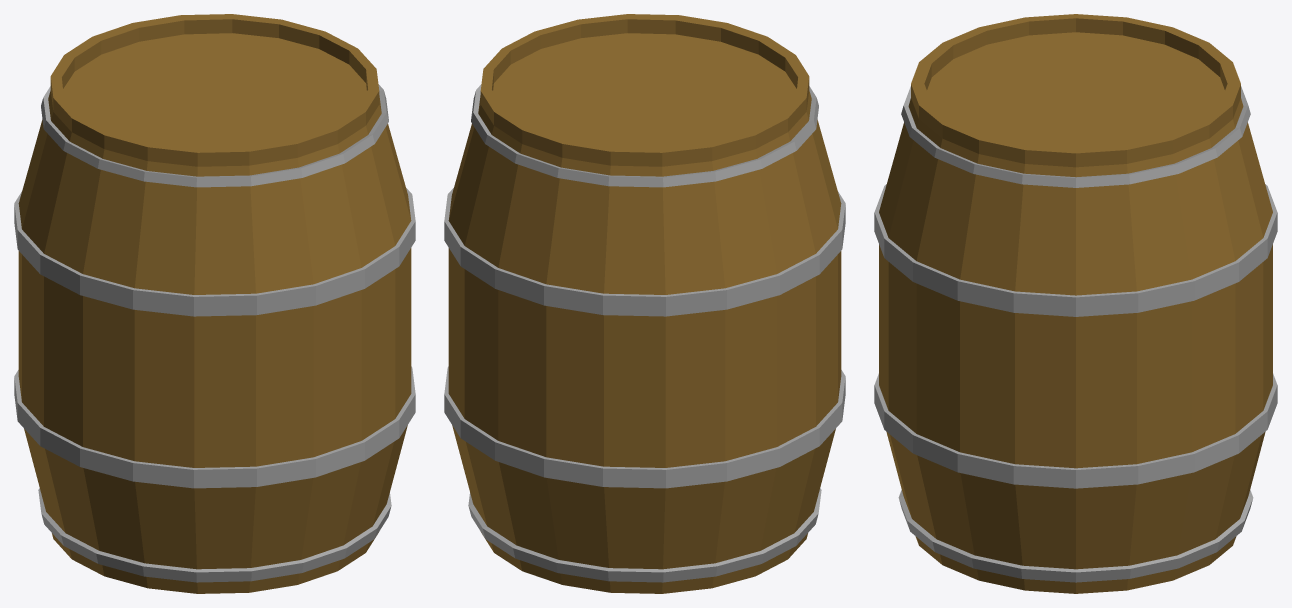
File: Barrel.fbx
The picture shows the model from 3 angles, left to right: view 1: azimuth 30°, elevation 25°; view 2: azimuth 150°, elevation 25°; view 3: azimuth 270°, elevation 25°; orthographic projection.
Parts seen in each view (by area): view 1: Barrel; view 2: Barrel; view 3: Barrel.
Boxes of the visible parts, x1,y1,x2,y2 form: Barrel: (14, 14, 415, 593); Barrel: (444, 14, 845, 593); Barrel: (874, 14, 1277, 593).
Bounding box in the file's own units: 2.44 × 2.95 × 2.44.
